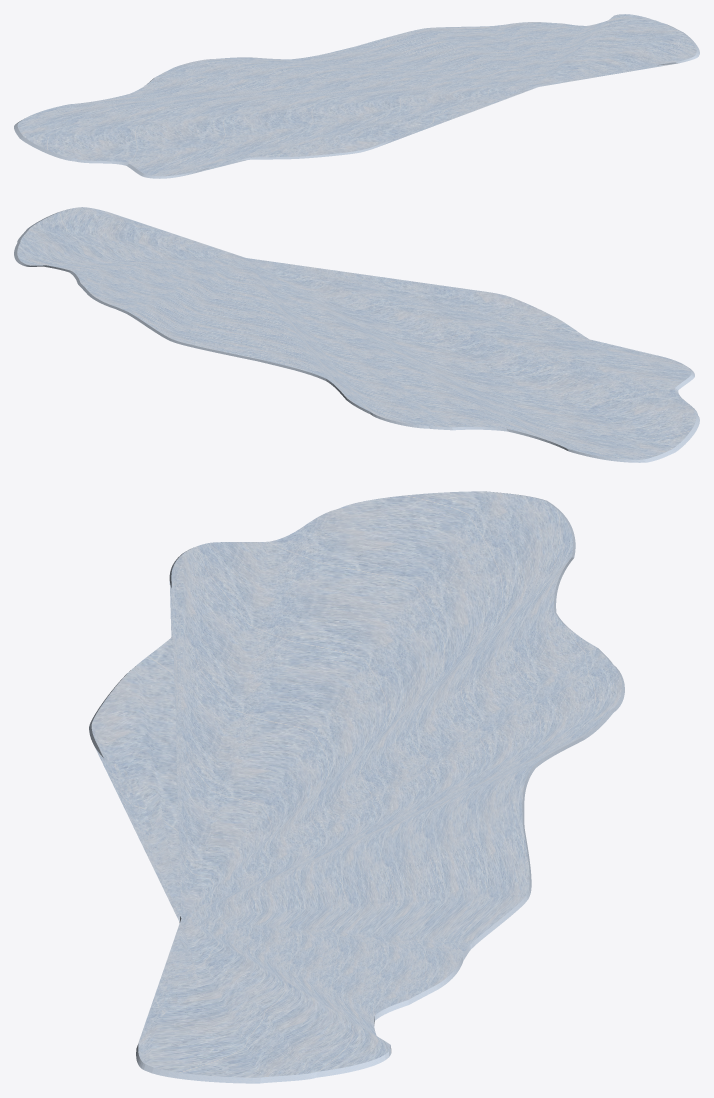
The model's file is waterpuddle_frozen.fbx.
The picture shows the model from 3 angles, top to bottom: view 1: azimuth 30°, elevation 25°; view 2: azimuth 150°, elevation 25°; view 3: azimuth 270°, elevation 25°; orthographic projection. The views are drawn at different scales.
Parts seen in each view (by area): view 1: GP_Layer; view 2: GP_Layer; view 3: GP_Layer.
Boxes of the visible parts, x1,y1,x2,y2 form: GP_Layer: [14, 14, 699, 178]; GP_Layer: [14, 207, 699, 462]; GP_Layer: [89, 491, 624, 1083].
Size of the model in its own units: 740 by 1.84 by 283.
Materials: 1 (1 with a texture image).
